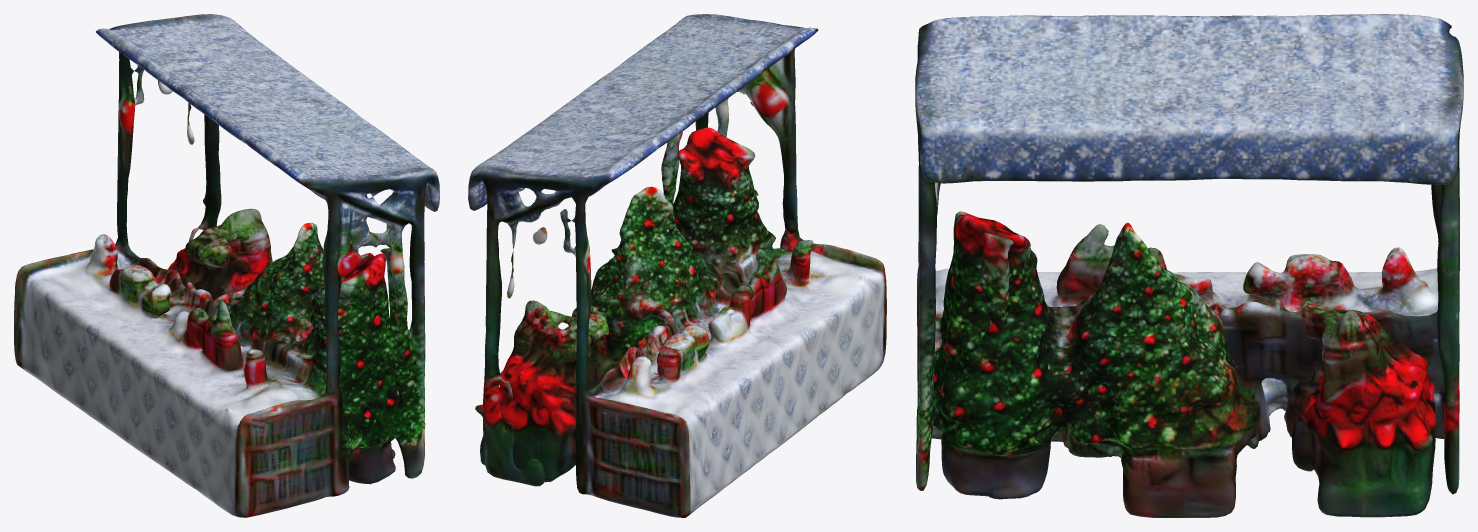
Rendered from booth.glb.
The picture shows the model from 3 angles, left to right: view 1: azimuth 30°, elevation 25°; view 2: azimuth 150°, elevation 25°; view 3: azimuth 270°, elevation 25°; orthographic projection. The views are drawn at different scales.
Parts seen in each view (by area): view 1: model; view 2: model; view 3: model.
Boxes of the visible parts, bbox=[...] form: model: bbox=[14, 14, 439, 517]; model: bbox=[468, 14, 886, 517]; model: bbox=[915, 14, 1463, 517].
Size of the model in its own units: 0.8228 by 1.17 by 1.38.
1 material, 1 textured.
